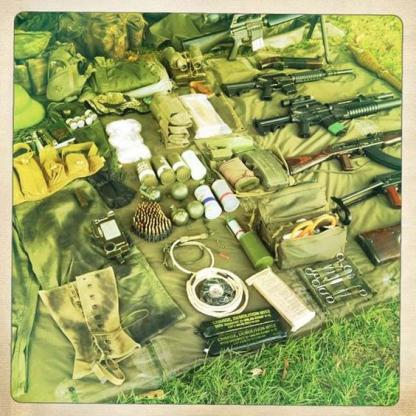Grenade: (150, 154, 176, 186), (168, 151, 191, 184), (135, 157, 159, 188), (167, 202, 189, 226), (166, 179, 190, 200), (138, 182, 162, 202), (186, 197, 204, 219)
Gun: (180, 12, 335, 66), (251, 92, 402, 139), (283, 128, 402, 175), (221, 68, 354, 102), (330, 169, 402, 227)
Pistol: (258, 56, 325, 72)
